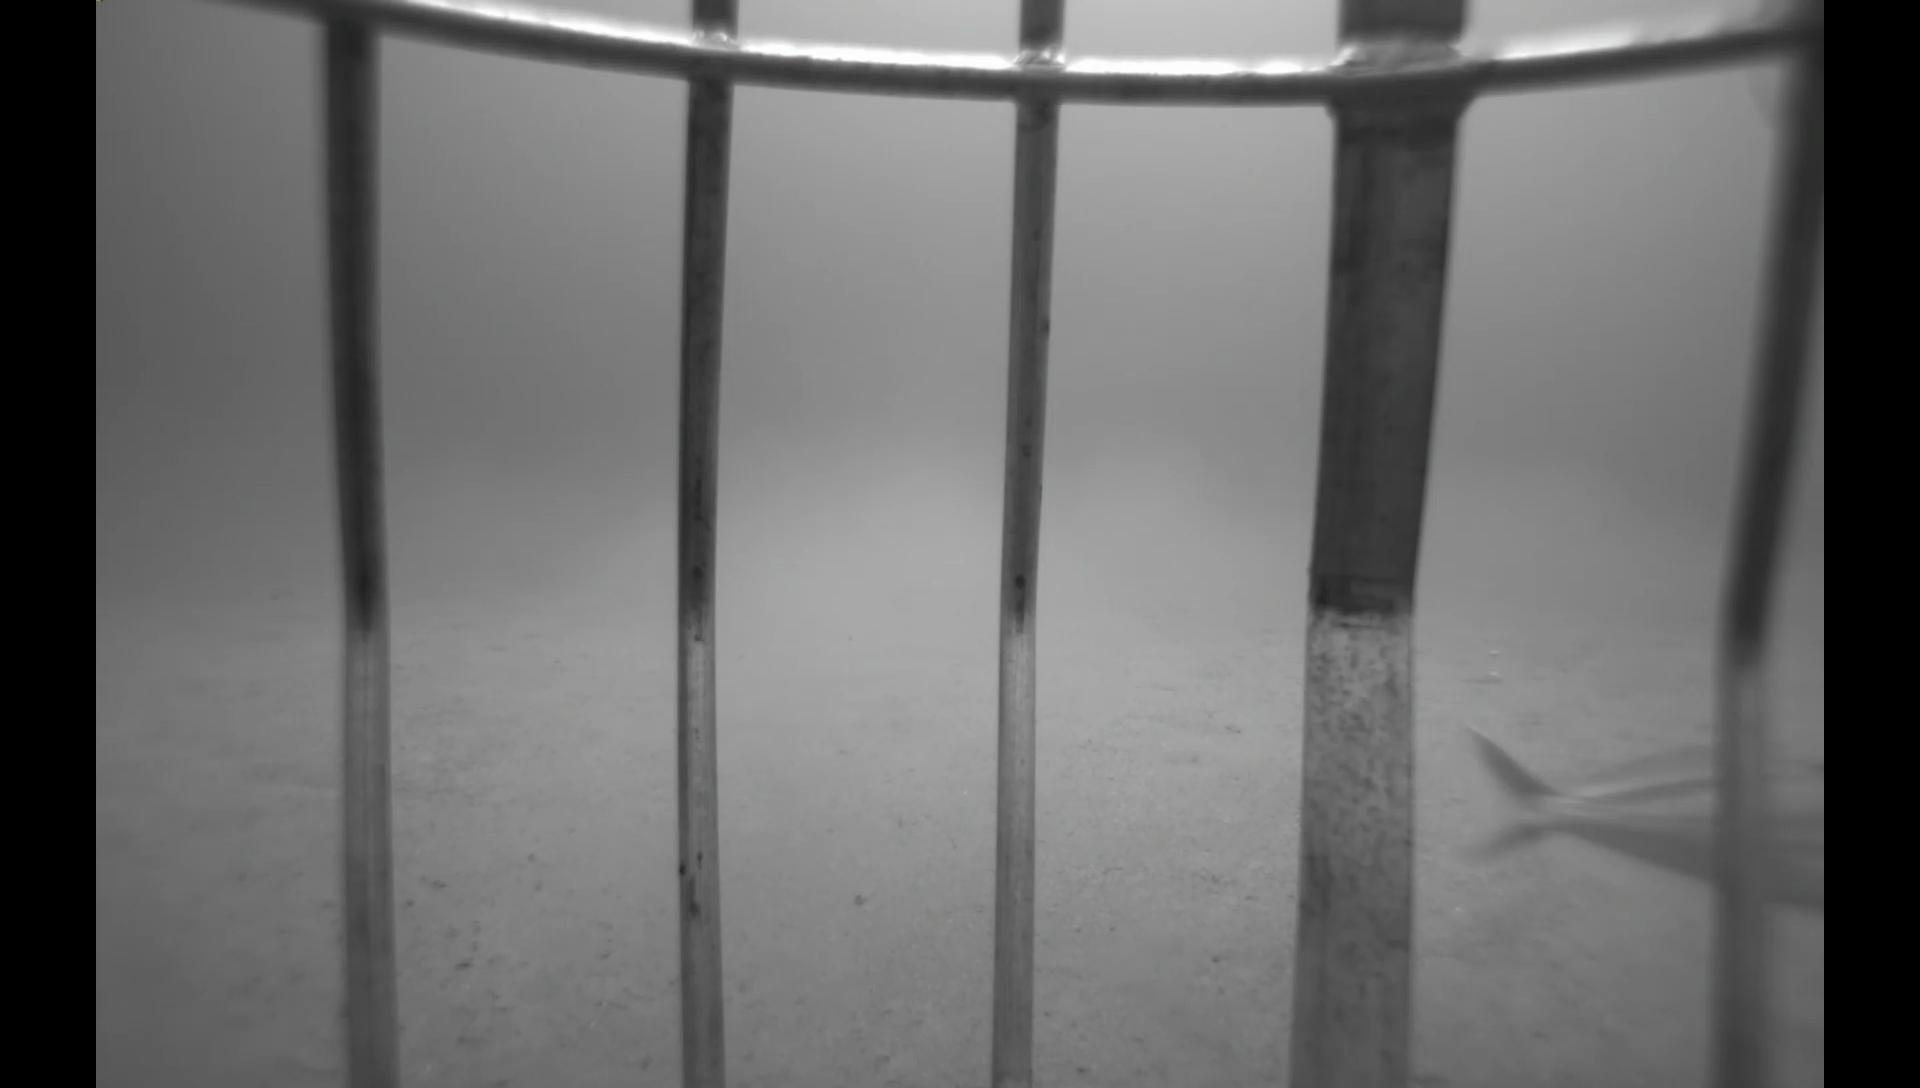CAULOLATILUSCYANOPS-170070101: (1425, 702, 1824, 938)
SYACIUM-183011000: (1141, 699, 1247, 742)
